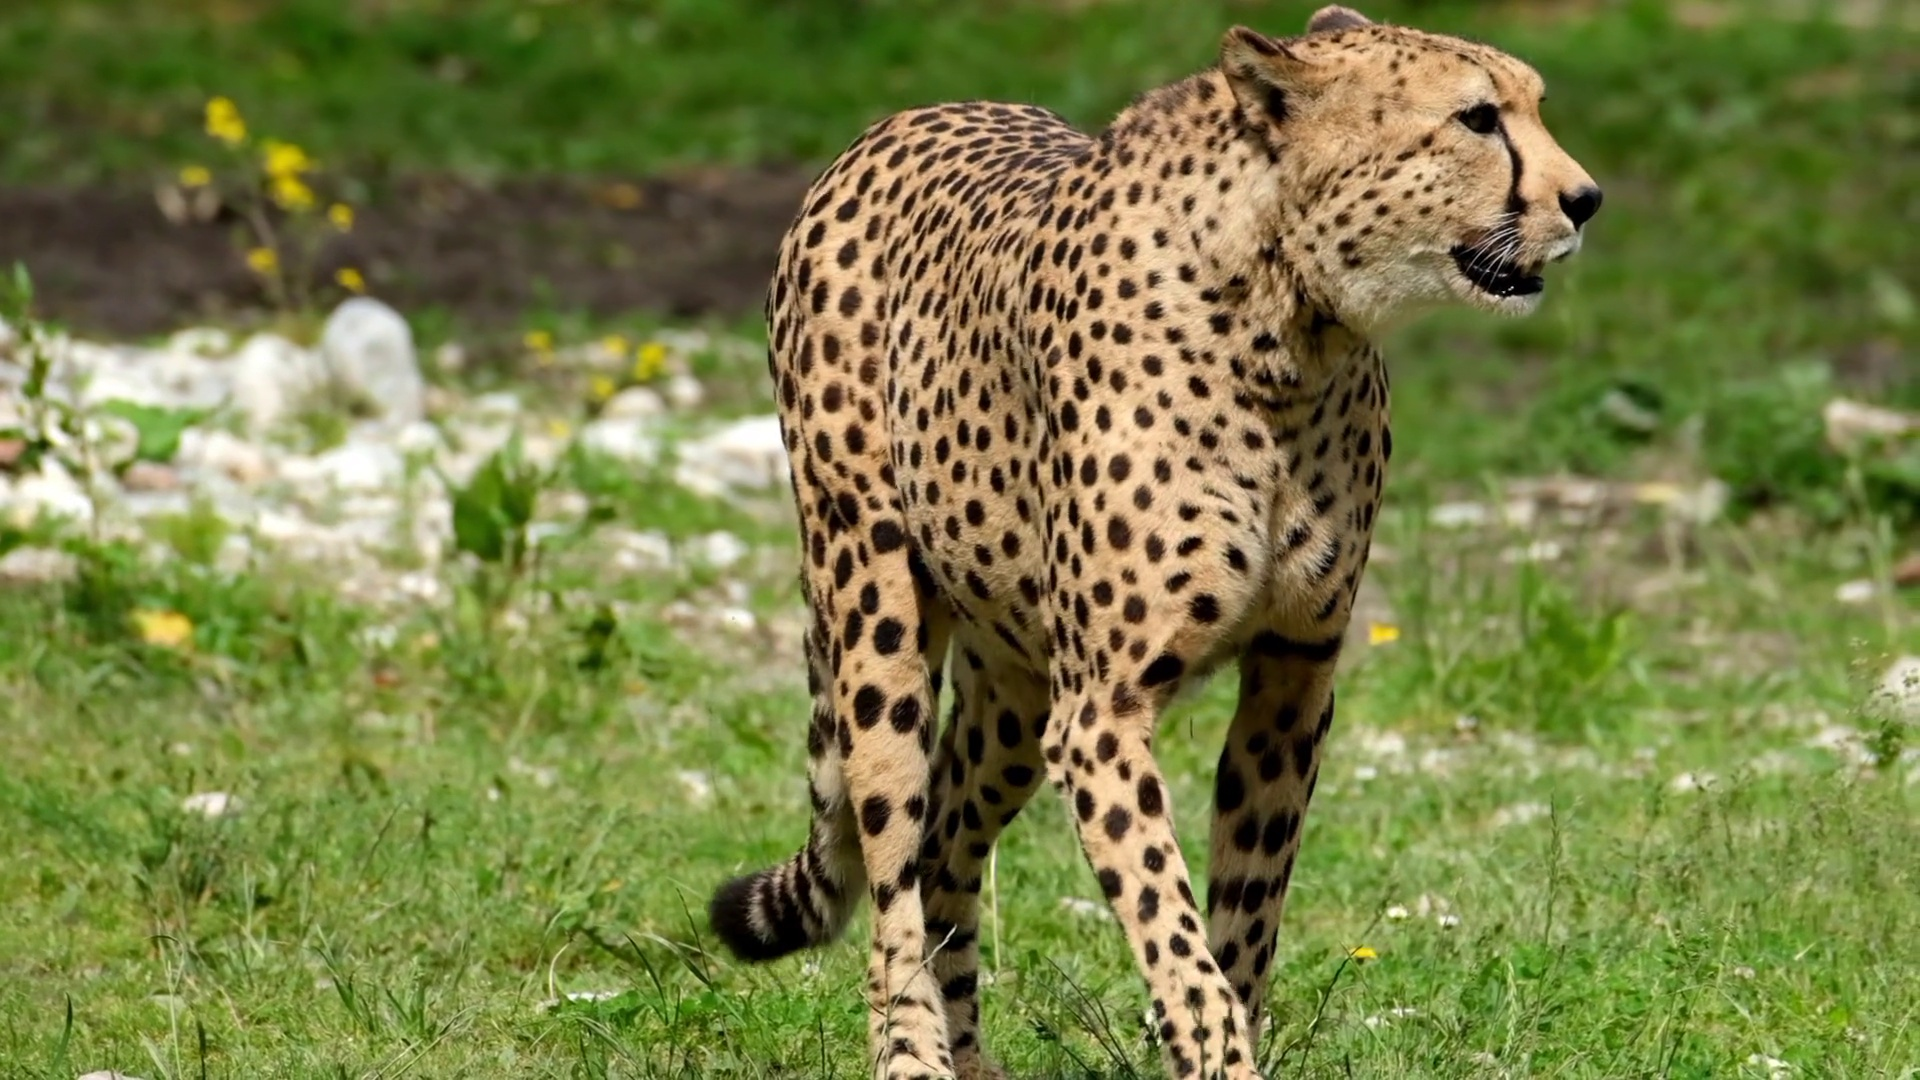Cheetah: (702, 3, 1611, 1080)
